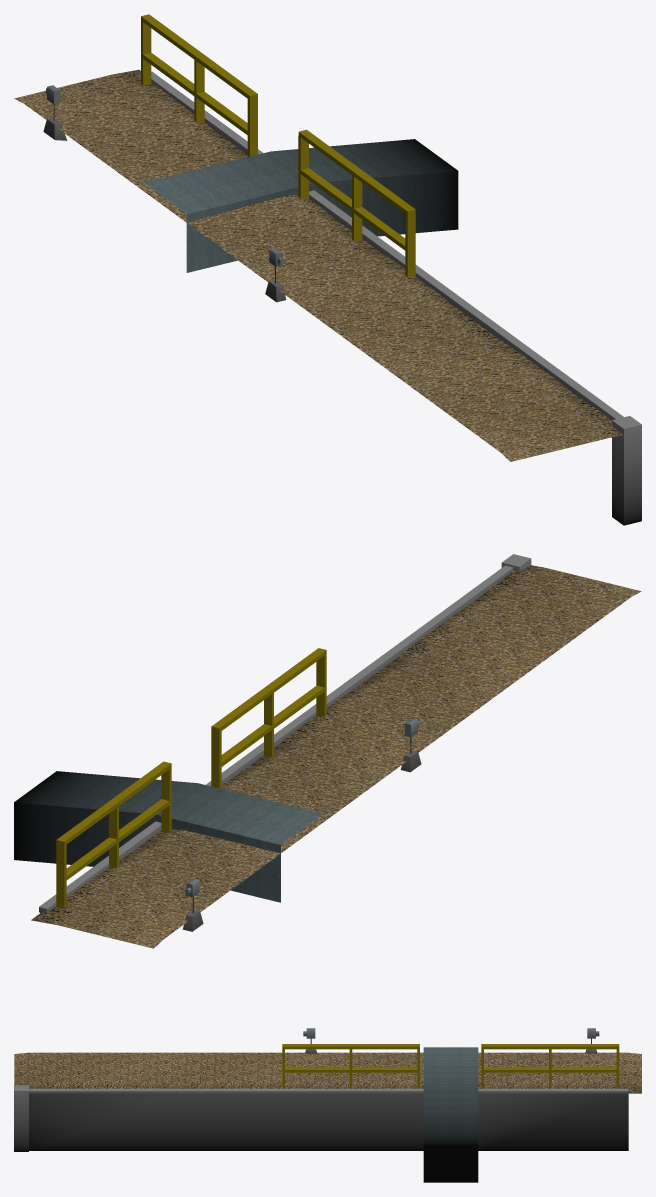
File: HUMIKIRI_L01.glb
The picture shows the model from 3 angles, top to bottom: view 1: azimuth 30°, elevation 25°; view 2: azimuth 150°, elevation 25°; view 3: azimuth 270°, elevation 25°; orthographic projection. The views are drawn at different scales.
Visible parts, largest first — view 1: Model, Joint_11, Joint_1; view 2: Model, Joint_11, Joint_1; view 3: Model, Joint_11, Joint_1.
Boxes of the visible parts, bbox=[...] form: Model: bbox=[14, 69, 641, 525]; Joint_11: bbox=[143, 129, 458, 277]; Joint_1: bbox=[43, 14, 257, 156]; Model: bbox=[31, 554, 641, 948]; Joint_11: bbox=[14, 648, 326, 902]; Joint_1: bbox=[56, 761, 203, 931]; Model: bbox=[14, 1052, 641, 1151]; Joint_11: bbox=[282, 1044, 478, 1182]; Joint_1: bbox=[481, 1028, 619, 1088].
Bounding box in the file's own units: 33.6 × 18.57 × 105.
Materials: 7 (7 with a texture image).
